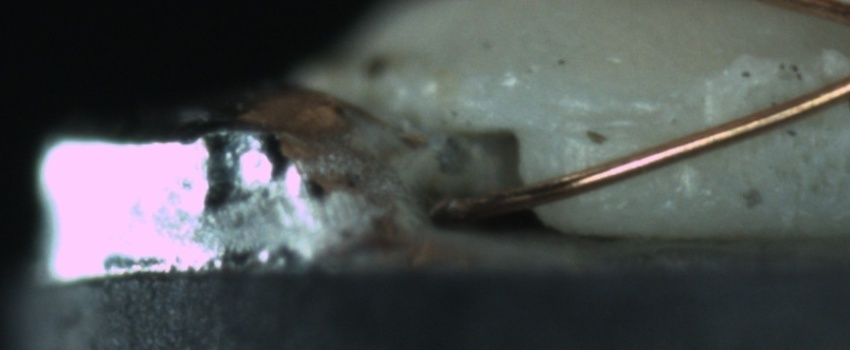DL: (551, 95, 675, 153)
